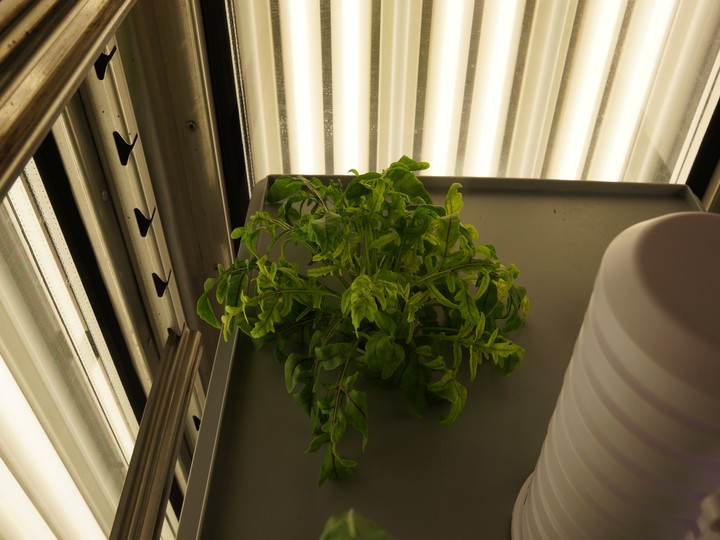roquette_sauvage_red_veined: (194, 157, 549, 492)
